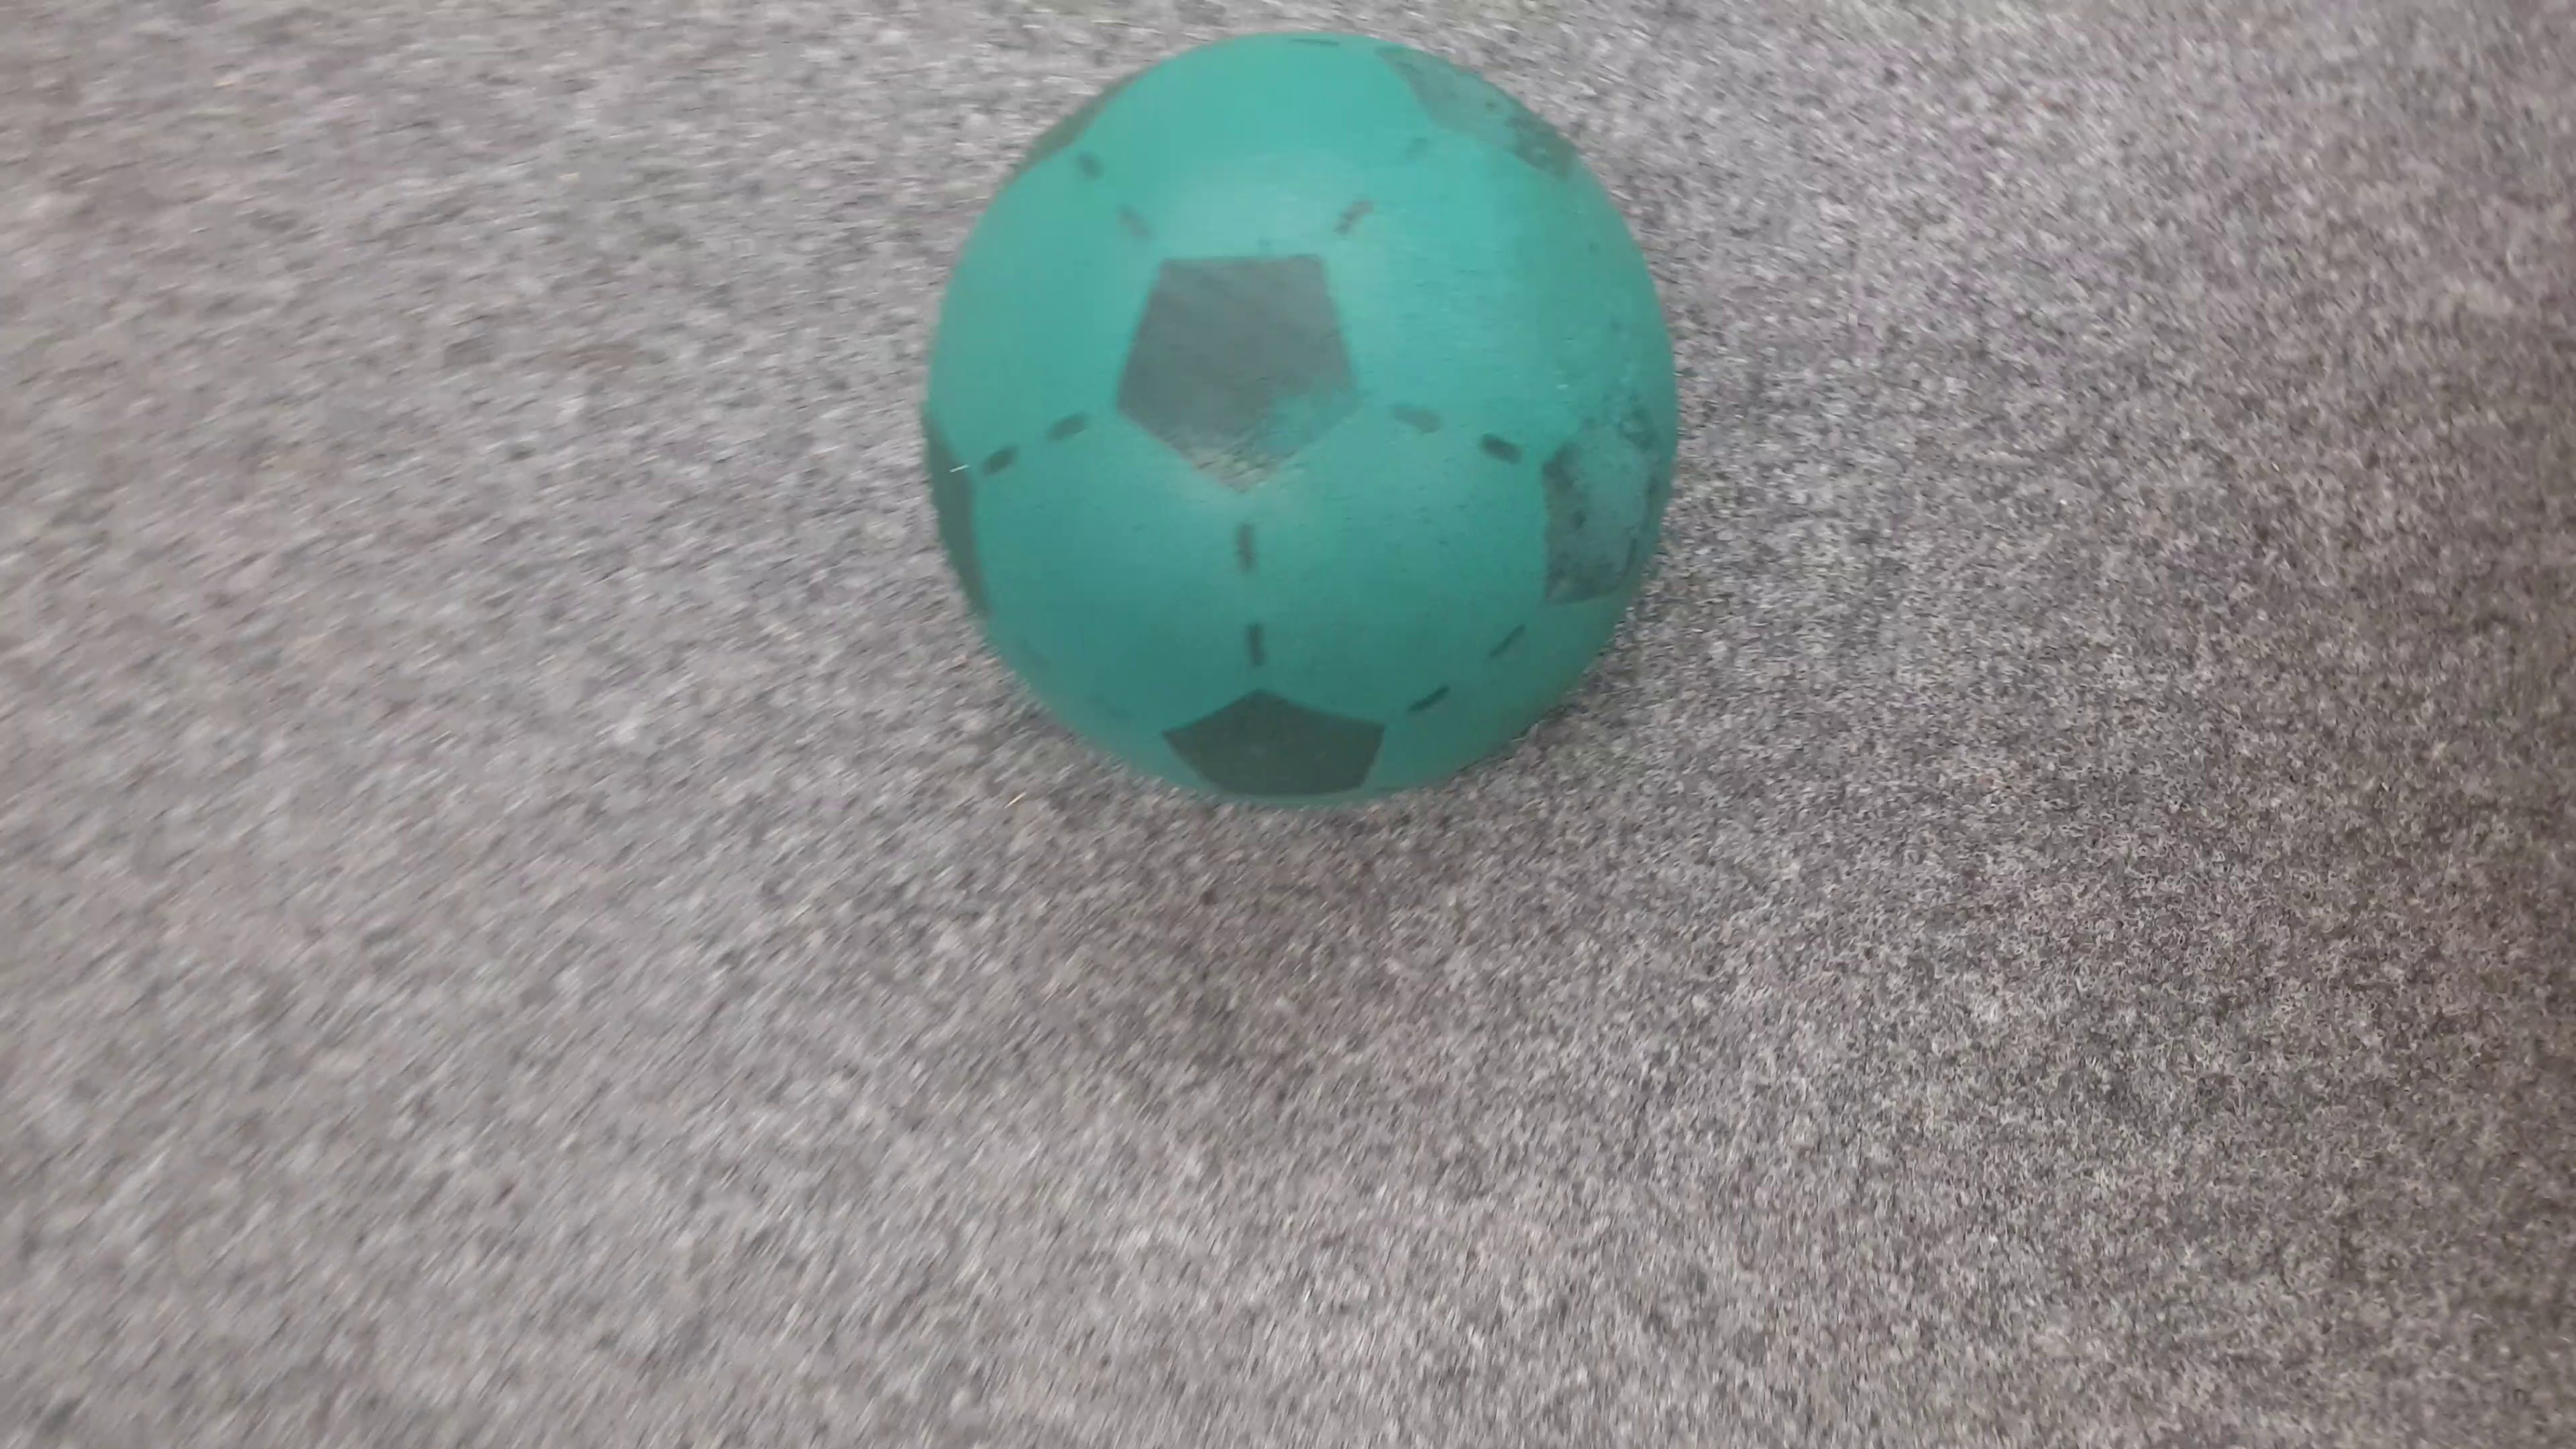kick: (909, 30, 1690, 805)
